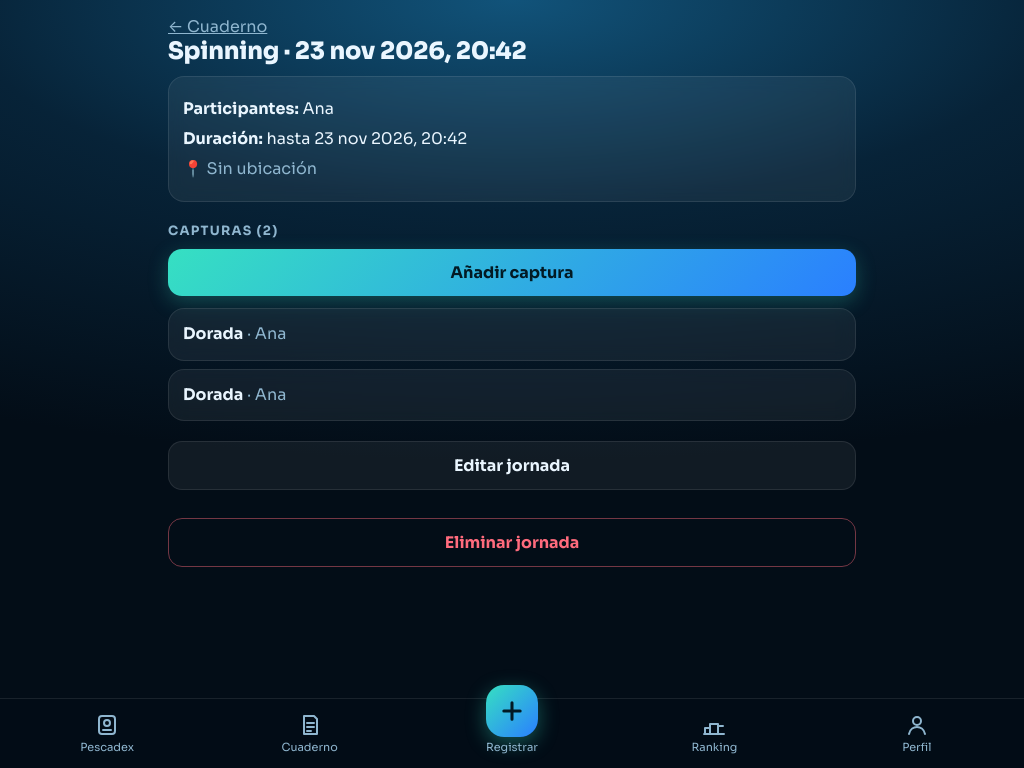
eliminar jornada › la creadora la borra tras confirmar
Click the button "Eliminar jornada": (512, 542) [168,518,856,567]
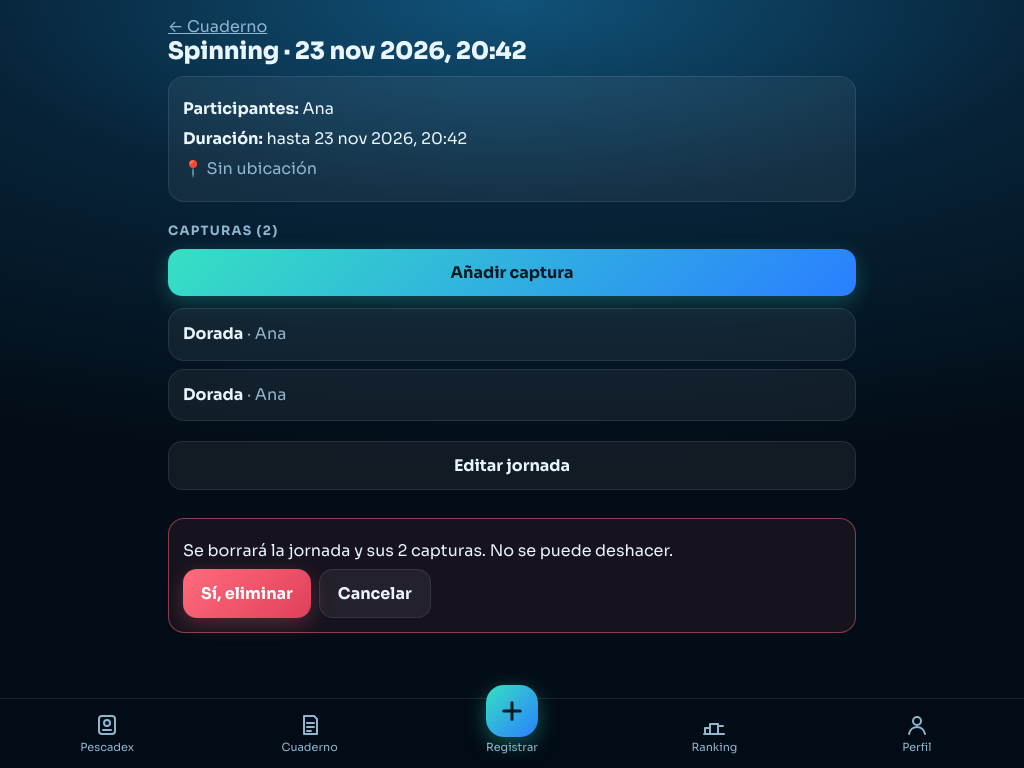
Expected: the text "Se borrará la jornada y sus 2 capturas. No se puede deshacer." is shown, [183,540,673,561]
Click the button "Sí, eliminar": (247, 593) [183,569,311,618]
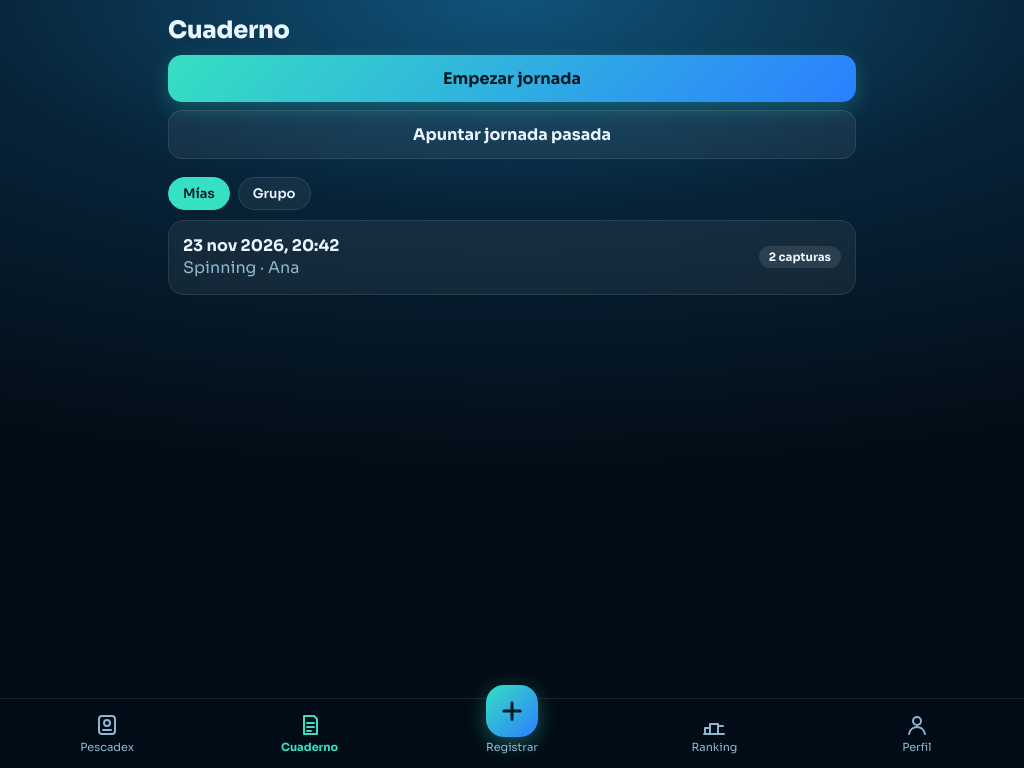
Expected: the heading "Cuaderno" is shown, [168,15,290,45]
